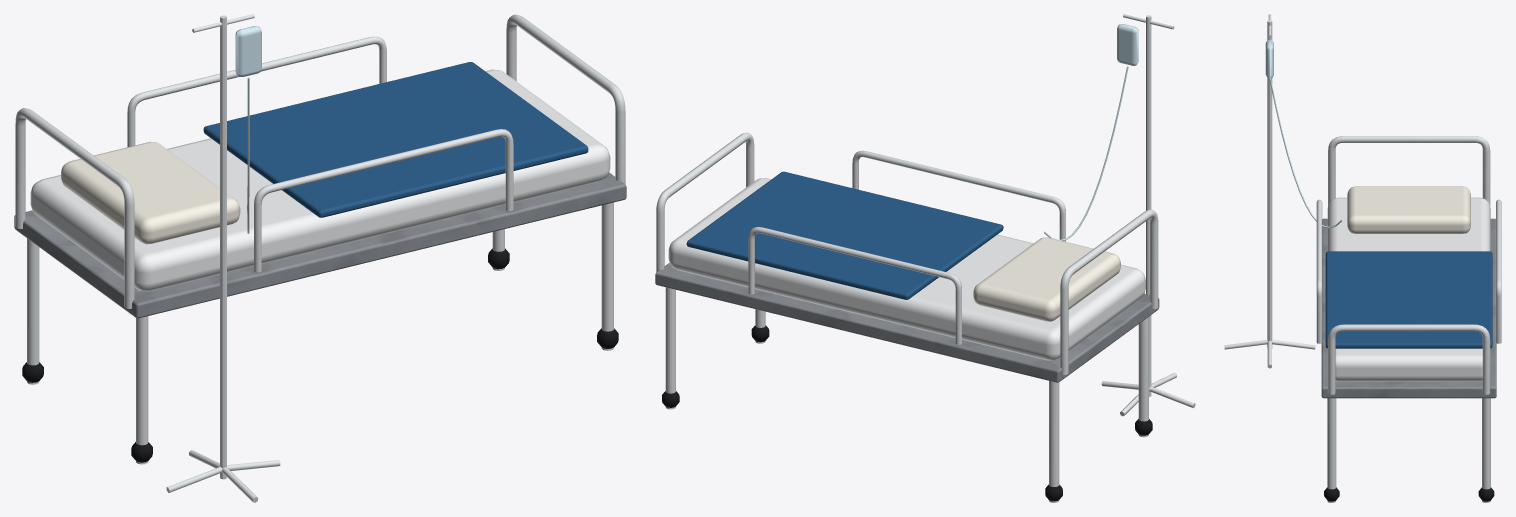
Rendered from MedBed.glb.
3 renders of one model, left to right at view 1: azimuth 30°, elevation 25°; view 2: azimuth 150°, elevation 25°; view 3: azimuth 270°, elevation 25°, orthographic. The views are drawn at different scales.
Parts seen in each view (by area): view 1: MedBed_Body; view 2: MedBed_Body; view 3: MedBed_Body.
Part boxes in pixels (<box>): MedBed_Body: <box>14,14,626,502</box>; MedBed_Body: <box>655,14,1195,502</box>; MedBed_Body: <box>1224,14,1501,502</box>.
Size of the model in its own units: 1.99 by 1.77 by 1.35.
7 materials, 1 textured.
